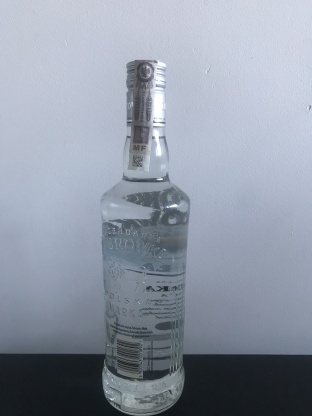nakretka: (123, 56, 169, 131)
